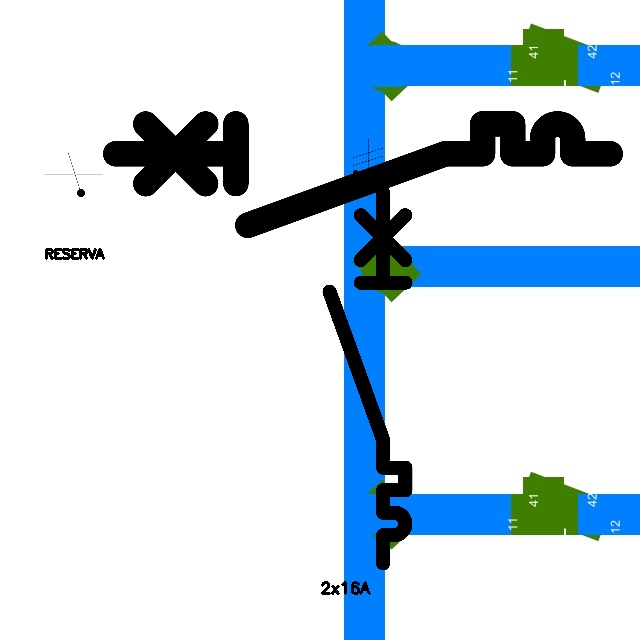interruptor_termomagnetico: (102, 111, 622, 238), (320, 183, 415, 573)
